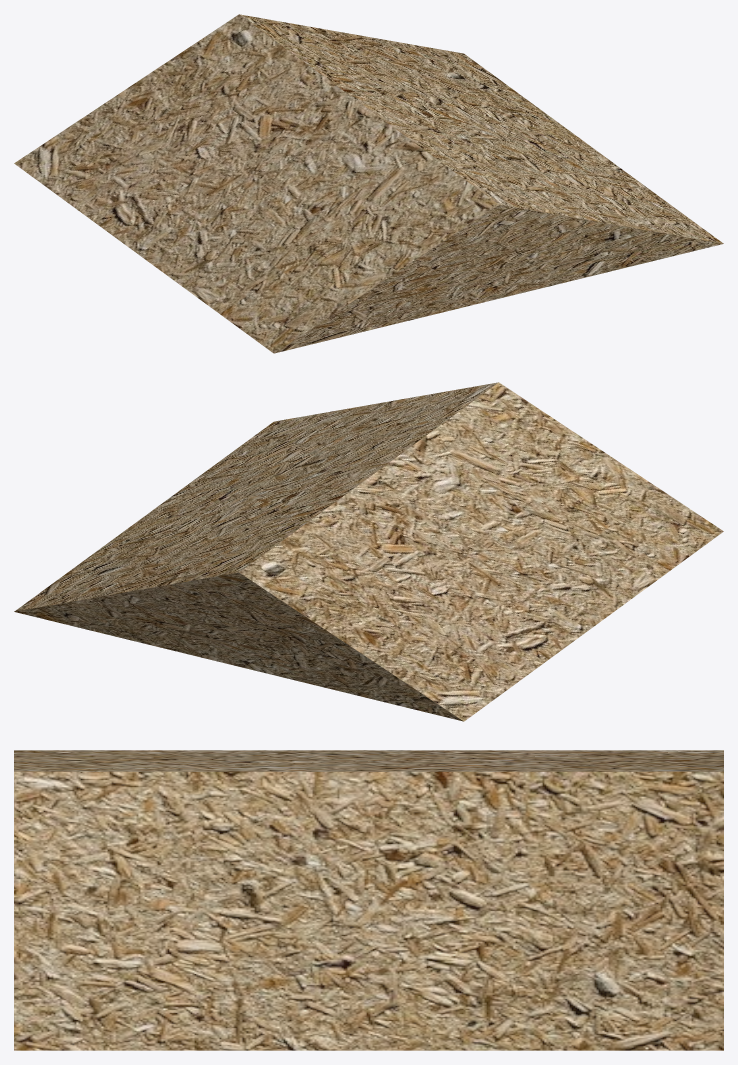
Rendered from ramp.dae.
3 renders of one model, top to bottom at view 1: azimuth 30°, elevation 25°; view 2: azimuth 150°, elevation 25°; view 3: azimuth 270°, elevation 25°, orthographic. The views are drawn at different scales.
Parts seen in each view (by area): view 1: ramp; view 2: ramp; view 3: ramp.
Part boxes in pixels (x1,y1,x2,y2): ramp: [14, 14, 723, 353]; ramp: [14, 382, 723, 721]; ramp: [14, 750, 723, 1050].
Size of the model in its own units: 1 by 1 by 0.2.
1 material, 1 textured.
